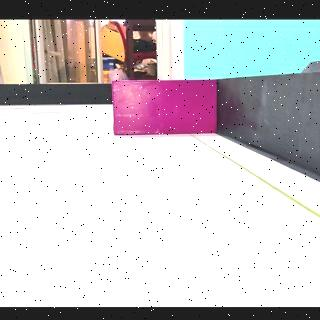xparking: (113, 80, 212, 134)
